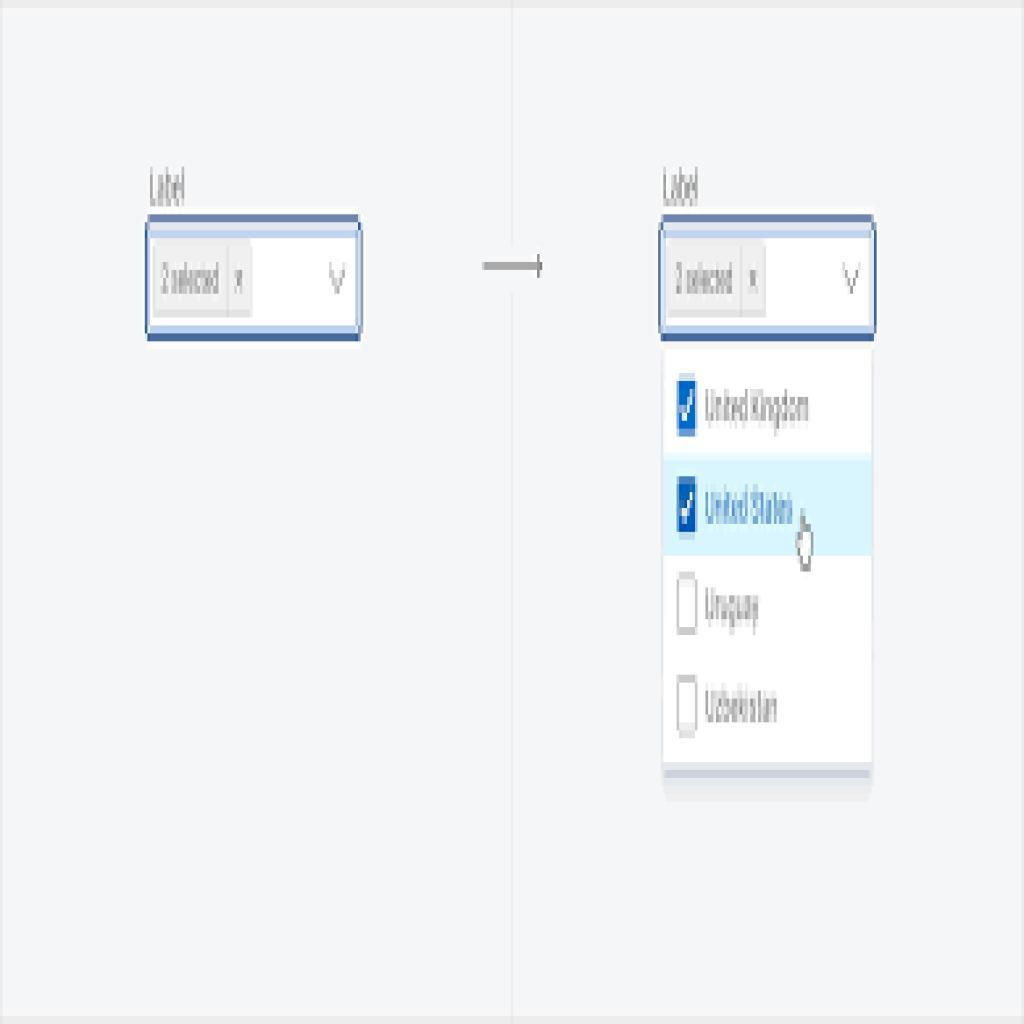checkbox: (677, 578, 700, 633), (678, 379, 699, 436), (677, 677, 696, 736), (680, 475, 697, 534)
dropdown: (663, 230, 879, 329), (149, 235, 353, 323)
